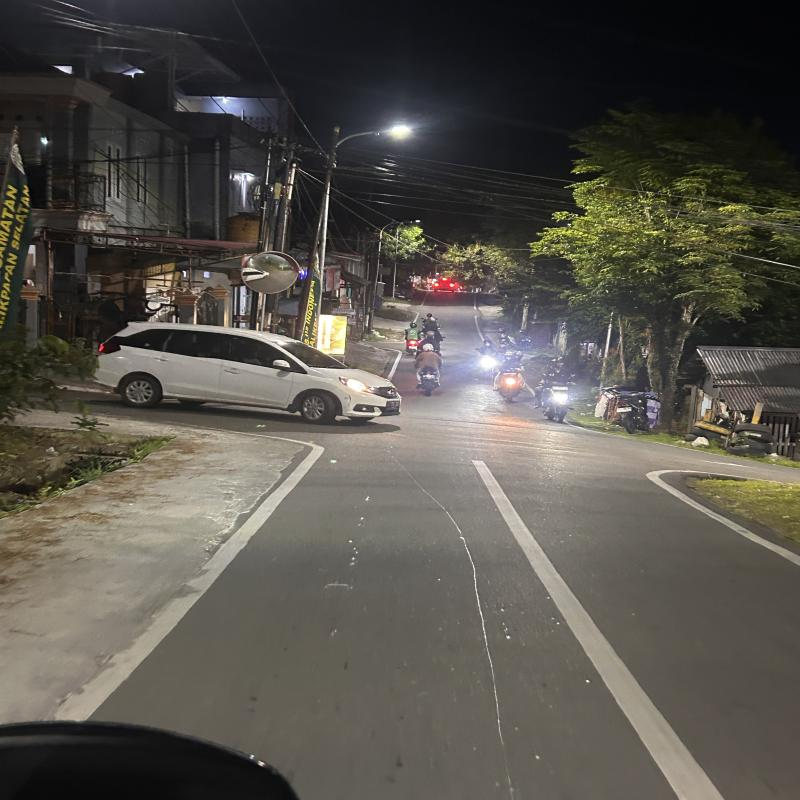license plate on a car: (386, 399, 401, 411)
